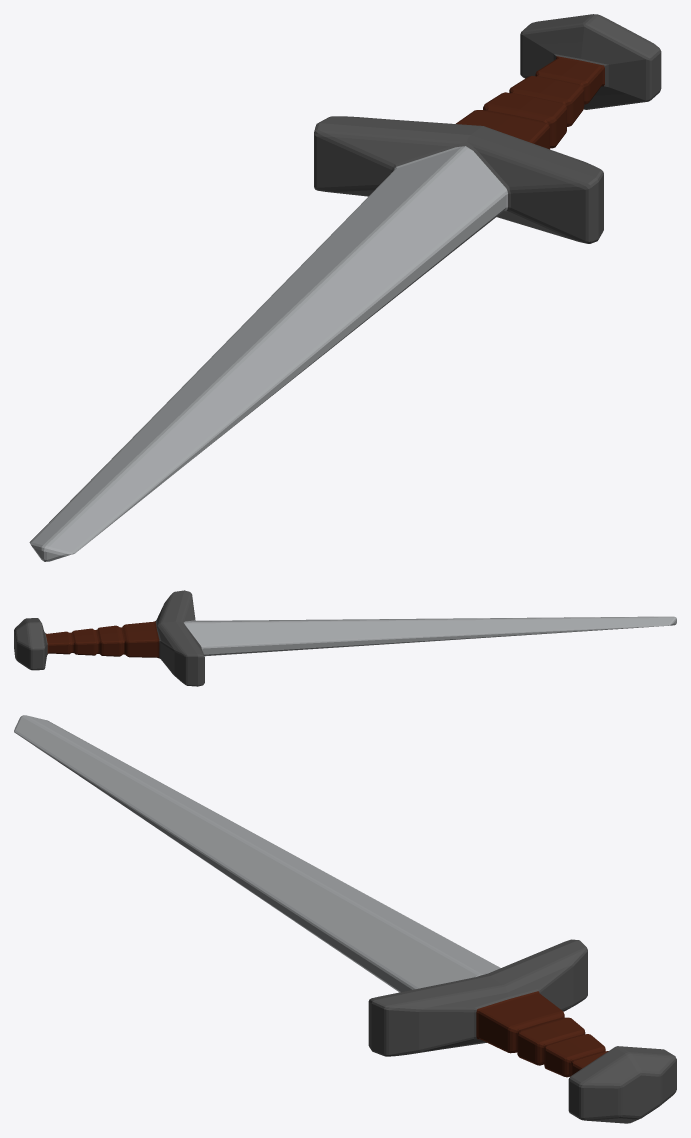
The model's file is bs-sword.fbx.
3 views of the same model, one above another, from view 1: azimuth 30°, elevation 25°; view 2: azimuth 150°, elevation 25°; view 3: azimuth 270°, elevation 25° (orthographic). The views are drawn at different scales.
Visible parts, largest first — view 1: Cube.212; view 2: Cube.212; view 3: Cube.212.
Part boxes in pixels (bbox=[...]): Cube.212: bbox=[29, 14, 661, 561]; Cube.212: bbox=[14, 590, 676, 686]; Cube.212: bbox=[14, 715, 676, 1123].
Bounding box in the file's own units: 183 × 15.67 × 134.
